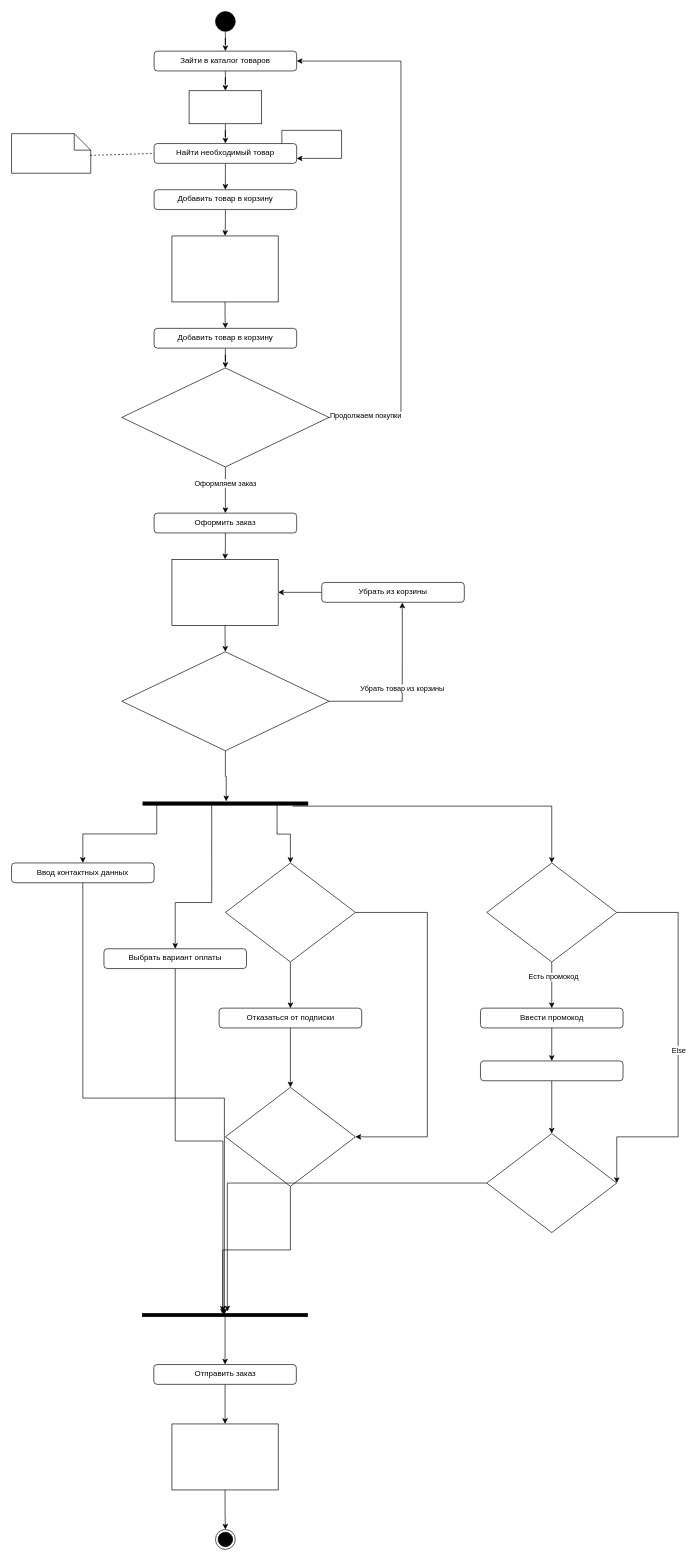
The diagram is 697 pixels wide and 1561 high, and some of its shapes have lost their labels. The shapes that lost their labels are listed below. From the top down, each one's centre as x and y in pixels, then its label:
At pixel 225 107: "Каталог".
At pixel 51 153: "Использовать гид по размерам".
At pixel 224 268: "Уведомление о желании продолжить покупки".
At pixel 224 592: "Корзина".
At pixel 551 1070: "Применить промокод".
At pixel 224 1456: "Сообщение о завершенной процедуре".
